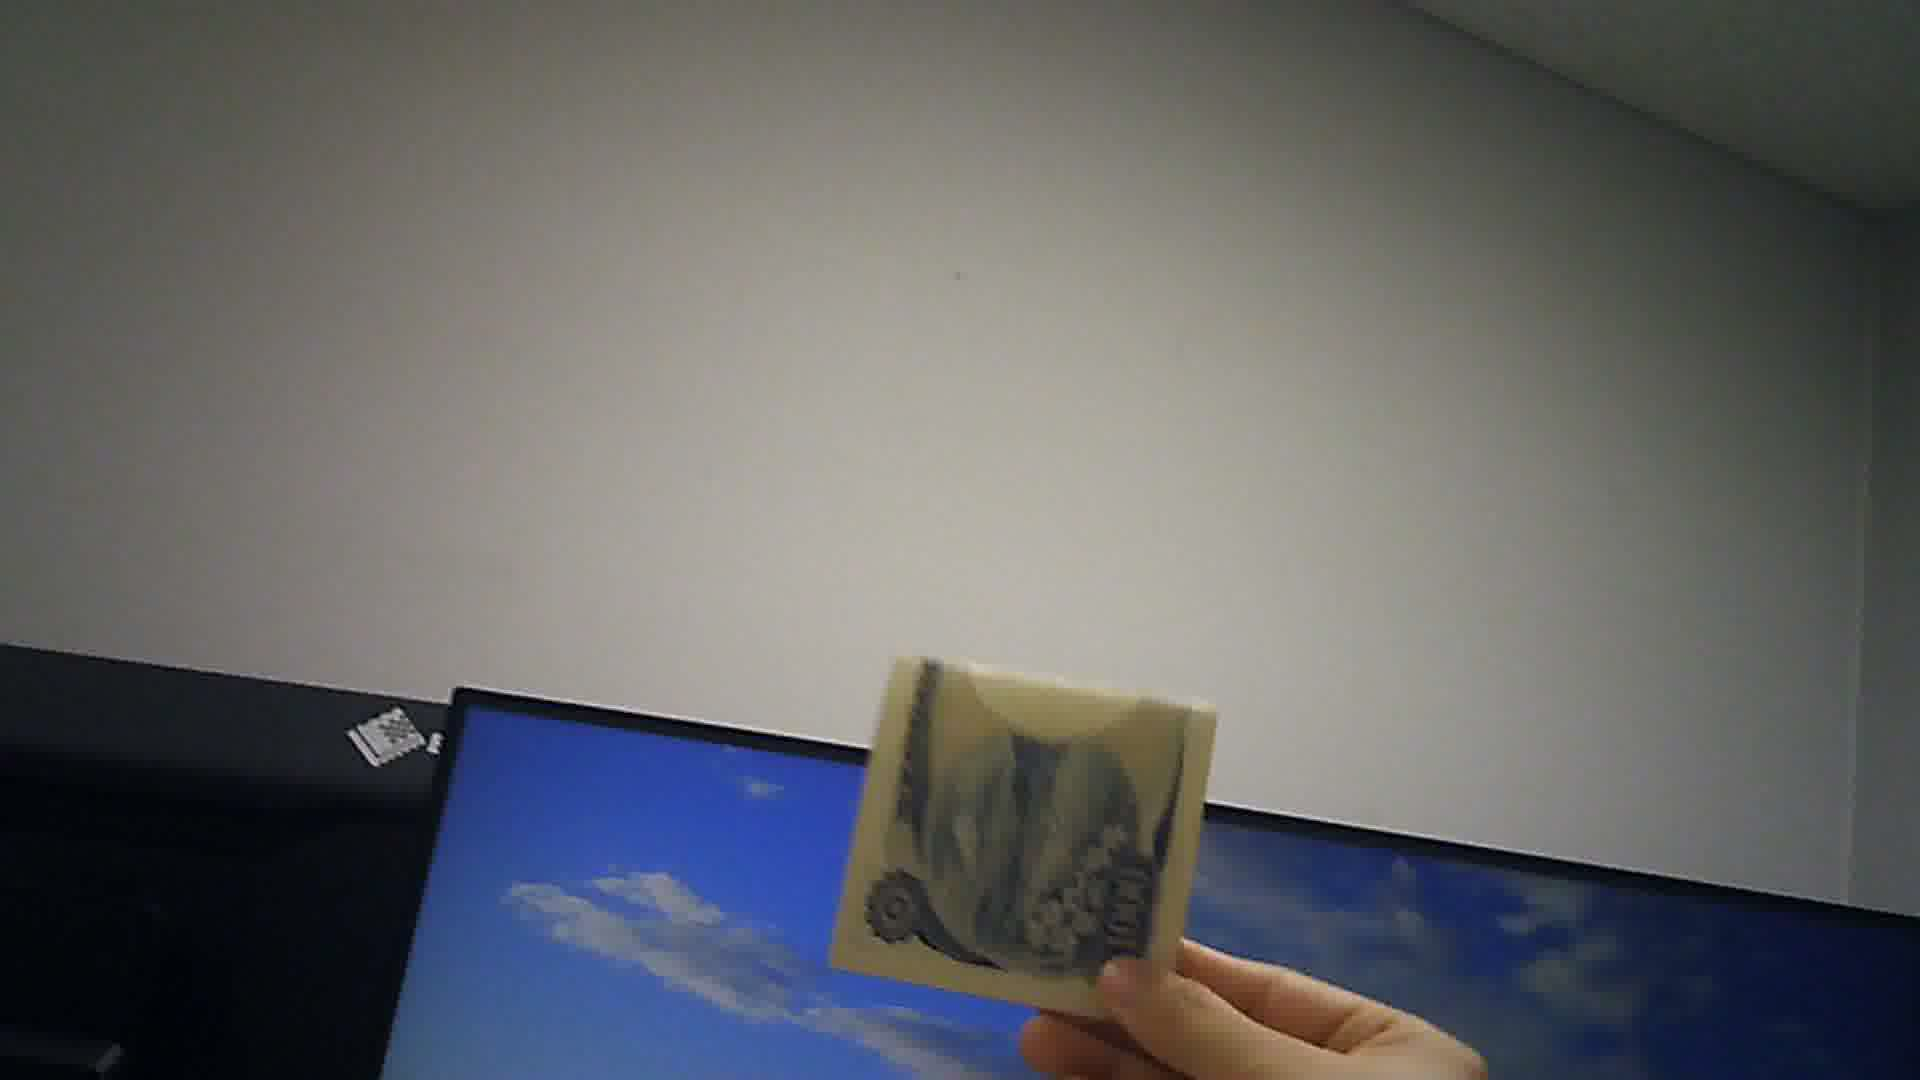1,000 Yen: (841, 646, 1234, 1039)
